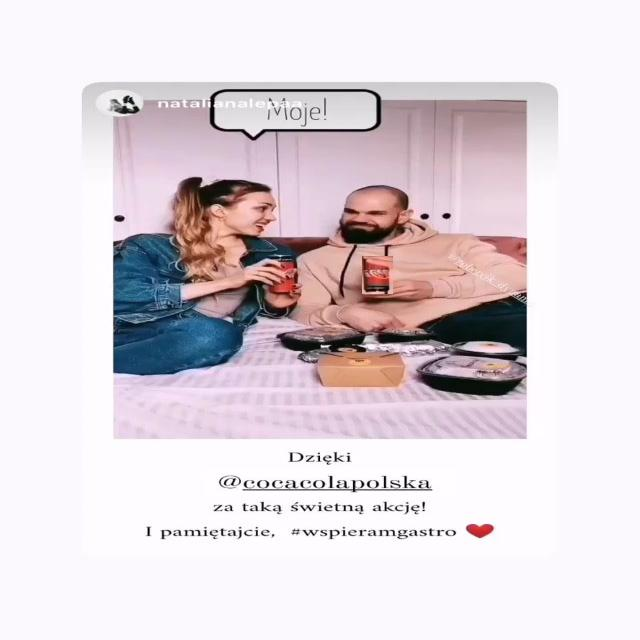coca-cola: (362, 256, 393, 294)
